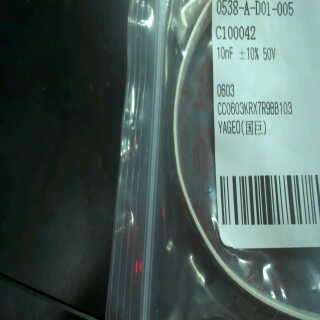10nF: (211, 43, 239, 63)
